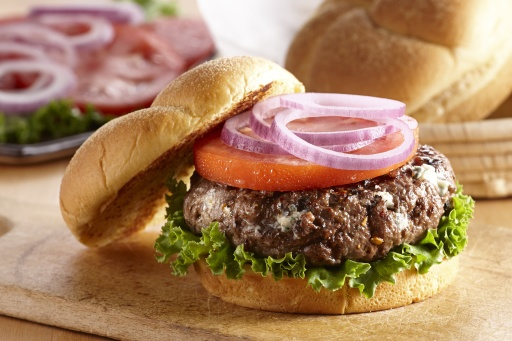background: (0, 0, 410, 168)
